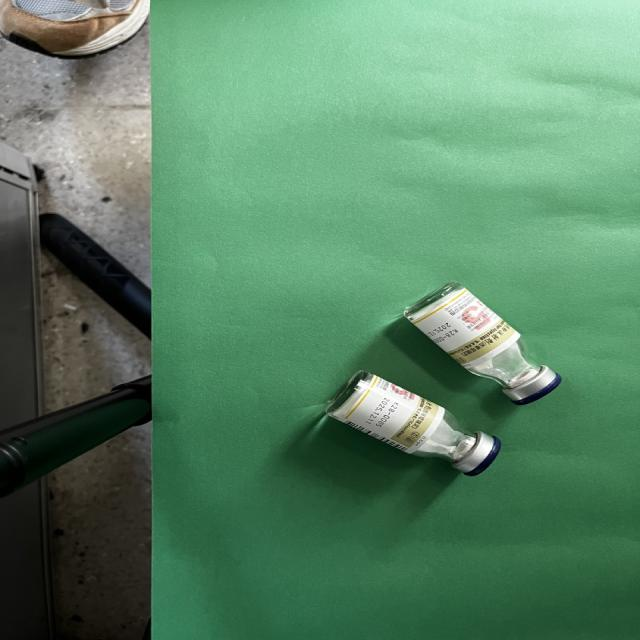Vials: (403, 283, 561, 405), (325, 370, 500, 476)
